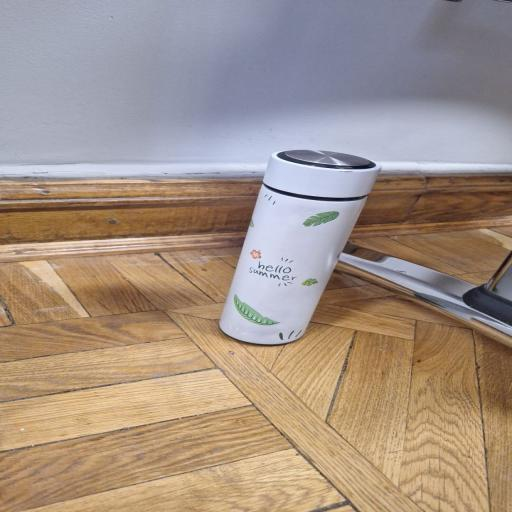bench: (220, 150, 381, 345)
